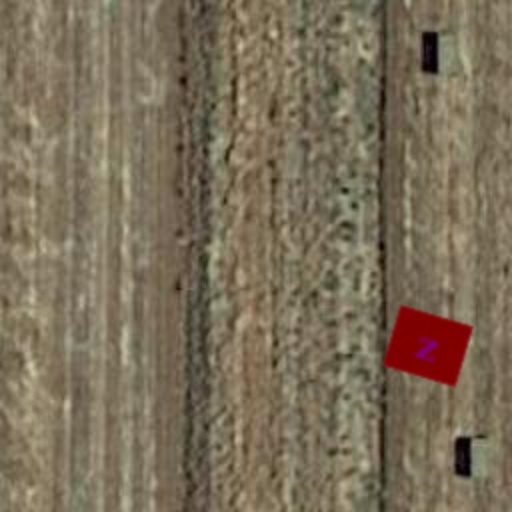rectangle: (380, 298, 476, 394)
